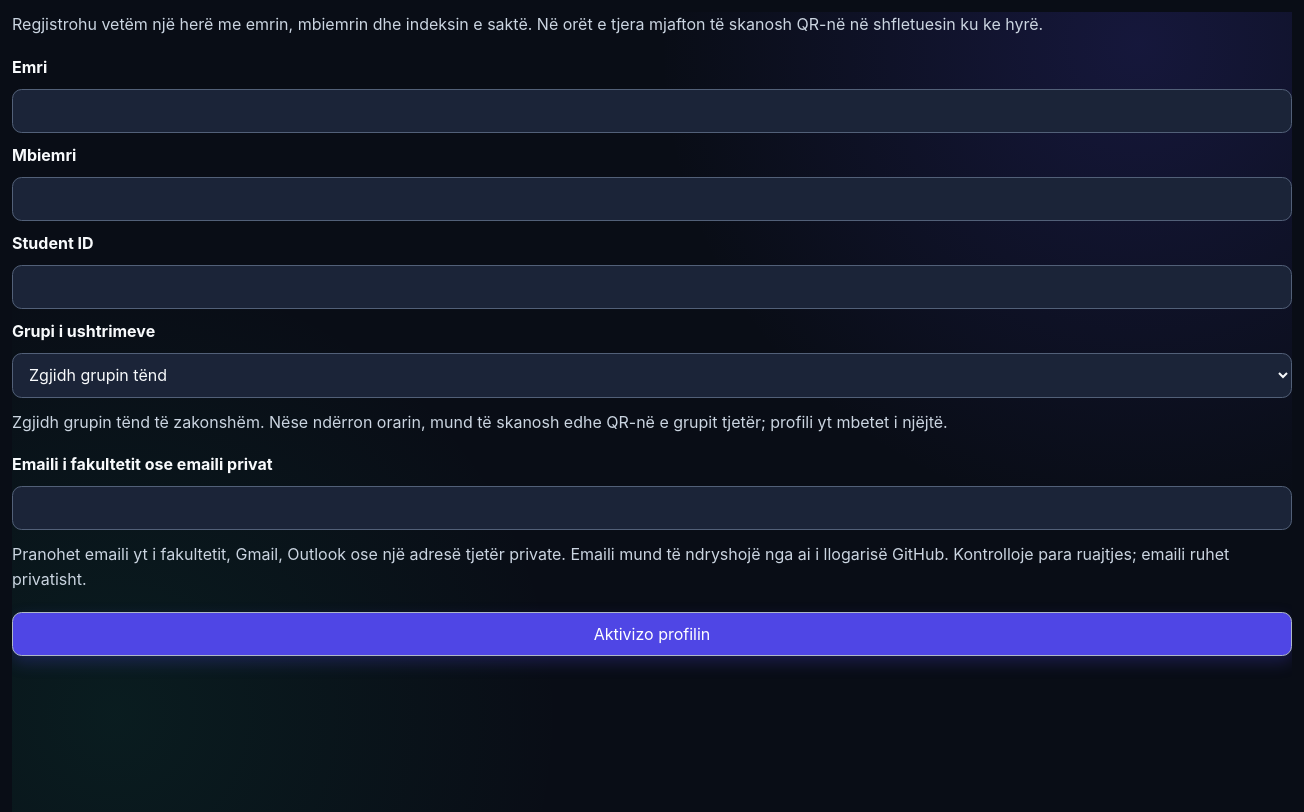
it: simplified student registration › saves a private email entered once and shows completion
Check: the button "Aktivizo profilin" is enabled, box x1=12 y1=612 x2=1292 y2=656
Type "Arta" into the field labelled "Emri".
click(652, 111); type("Arta")  # box x1=12 y1=89 x2=1292 y2=133
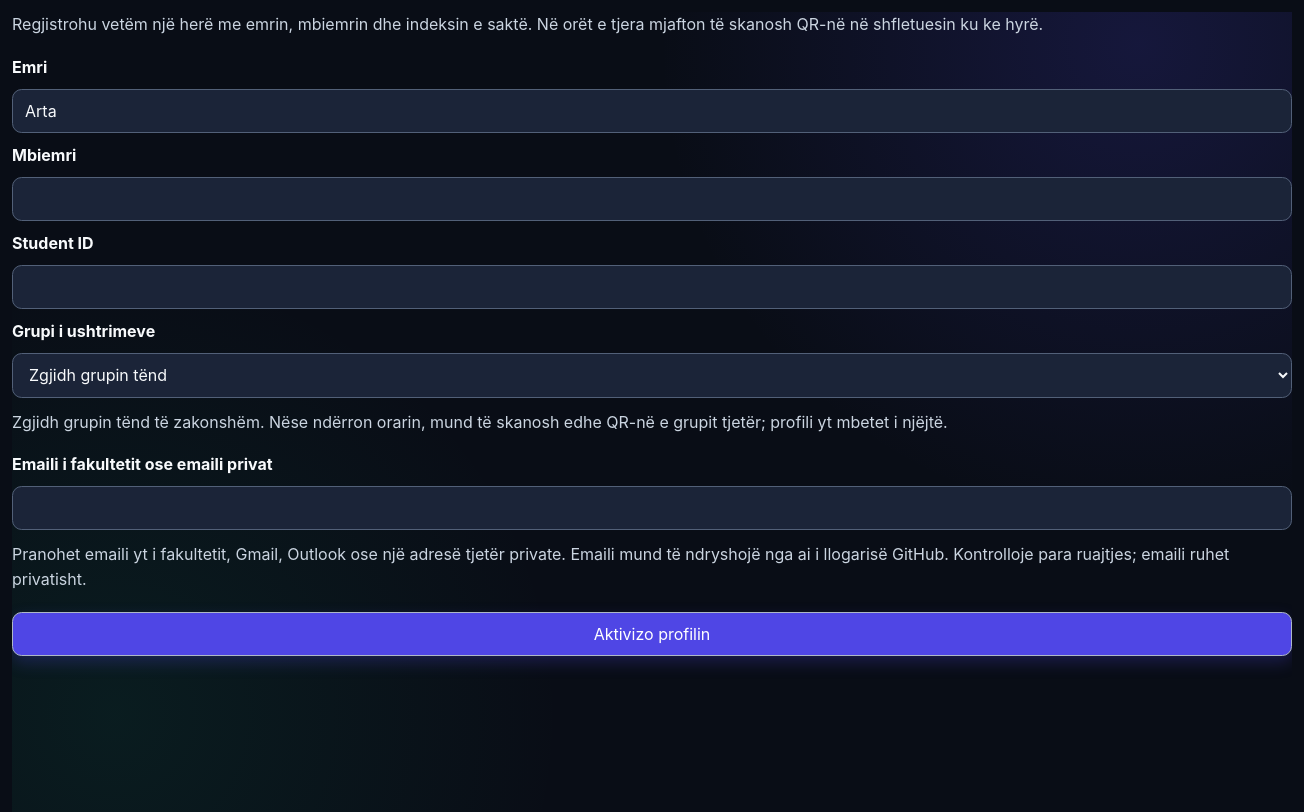
Type "Kola" into the field labelled "Mbiemri".
click(652, 199); type("Kola")  # box x1=12 y1=177 x2=1292 y2=221
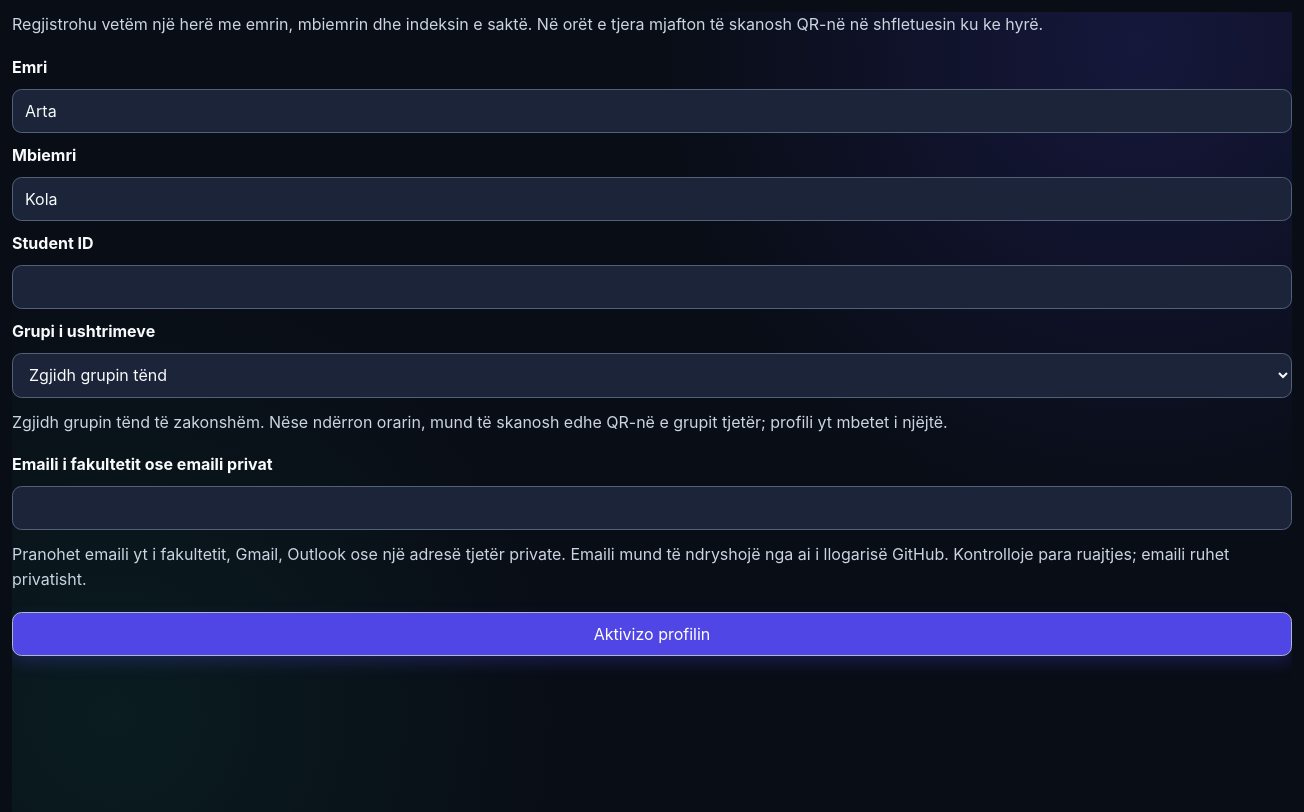
Type "REG-1" into the field labelled "Student ID".
click(652, 287); type("REG-1")  # box x1=12 y1=265 x2=1292 y2=309
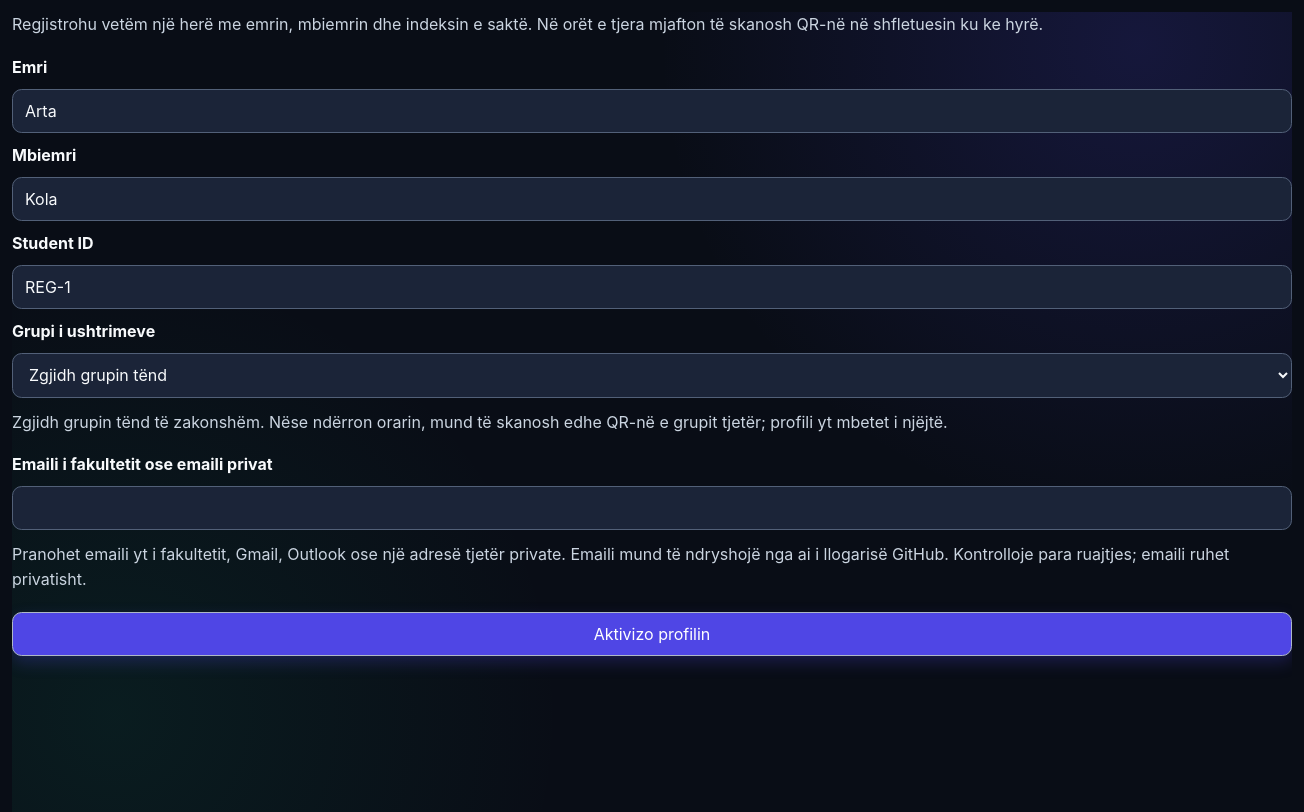
Select "Grupi 1 · 14:45" in the dropdown labelled "Grupi i ushtrimeve" at (652,375), box x1=12 y1=353 x2=1292 y2=398
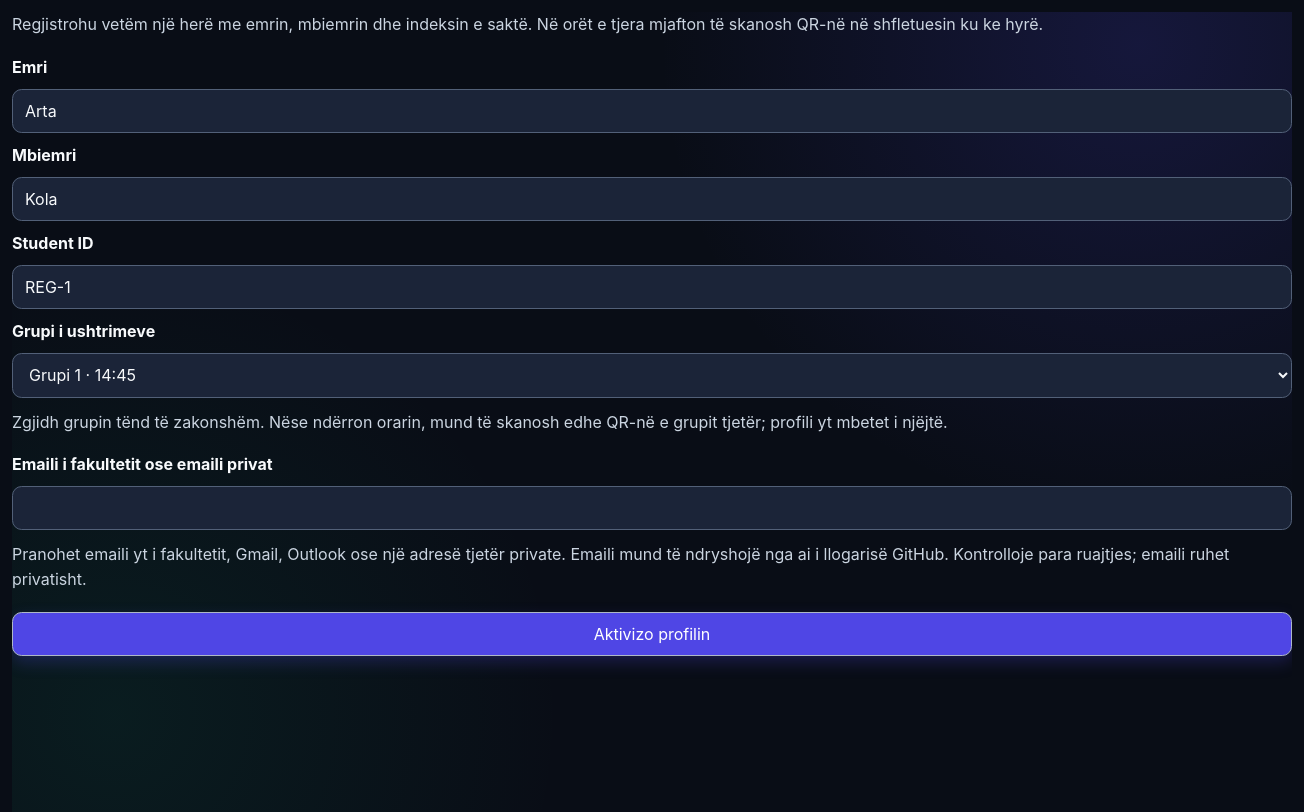
Type "arta.personal@gmail.com" into the field labelled "Emaili i fakultetit ose emaili privat".
click(652, 508); type("arta.personal@gmail.com")  # box x1=12 y1=486 x2=1292 y2=530
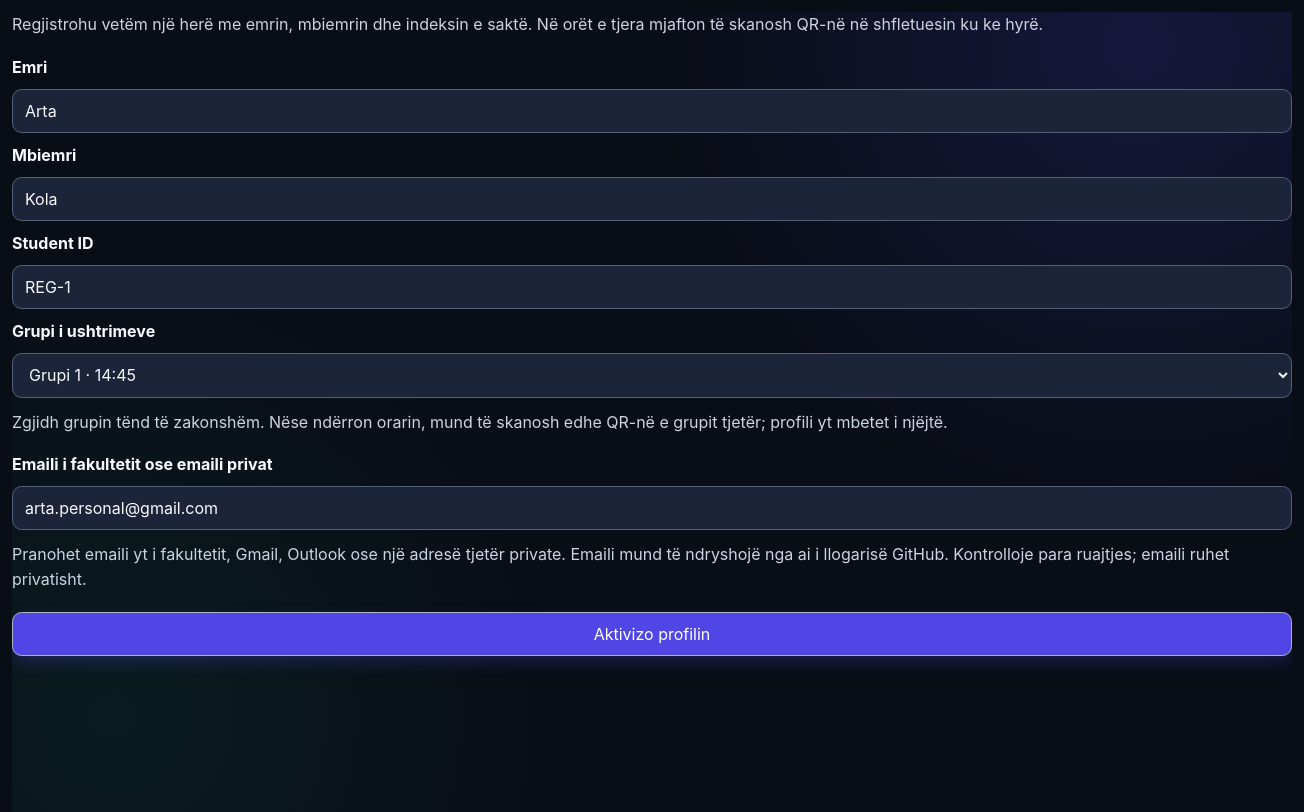
Submit the form
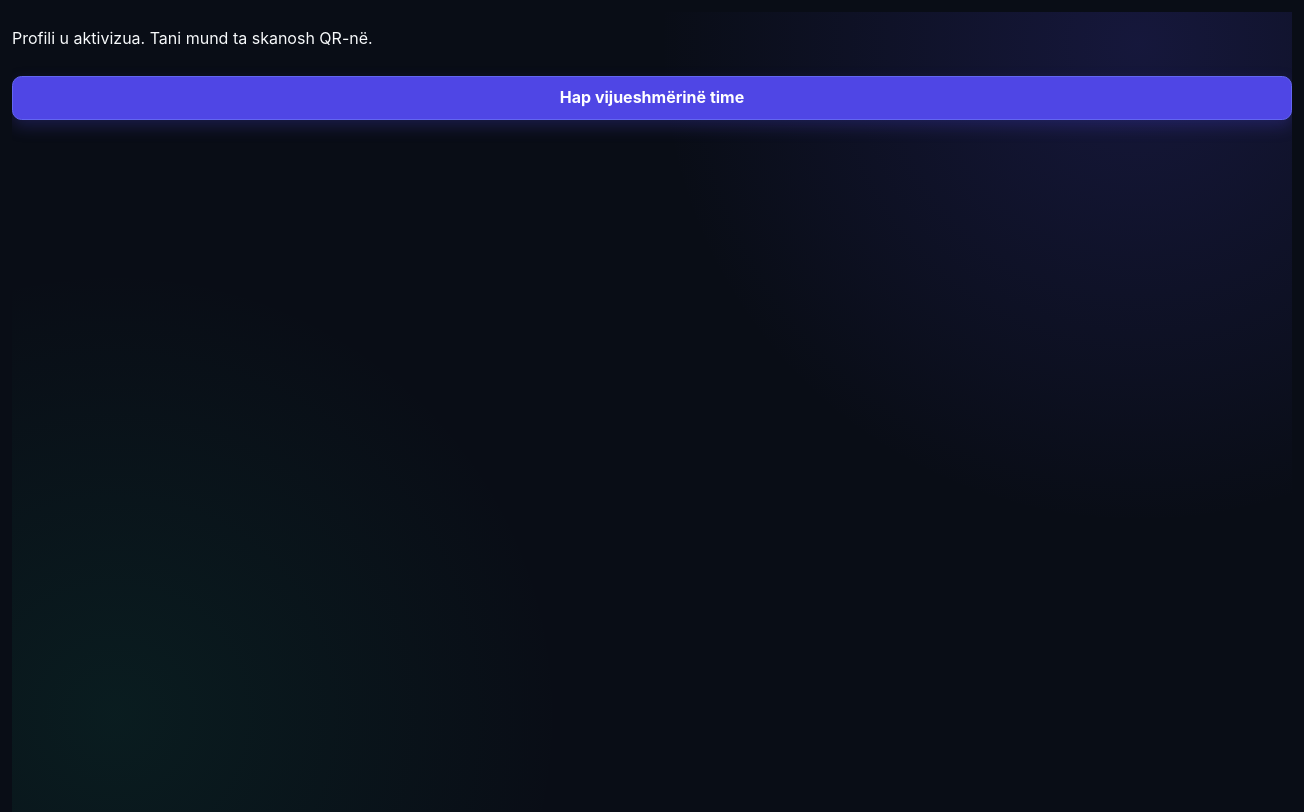
Check: the message shows "Profili u aktivizua", box x1=12 y1=28 x2=373 y2=48
